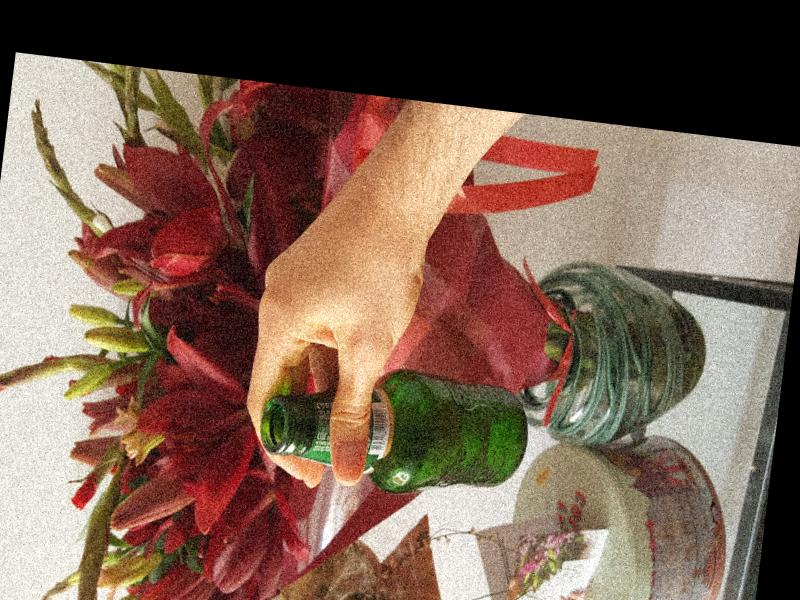Beer: (256, 357, 534, 508)
